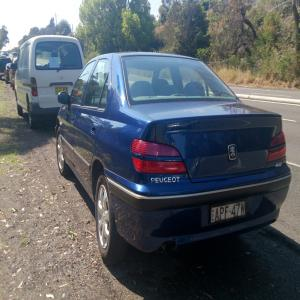Vehicle-registration-plate: (211, 201, 246, 225), (57, 87, 69, 98)
